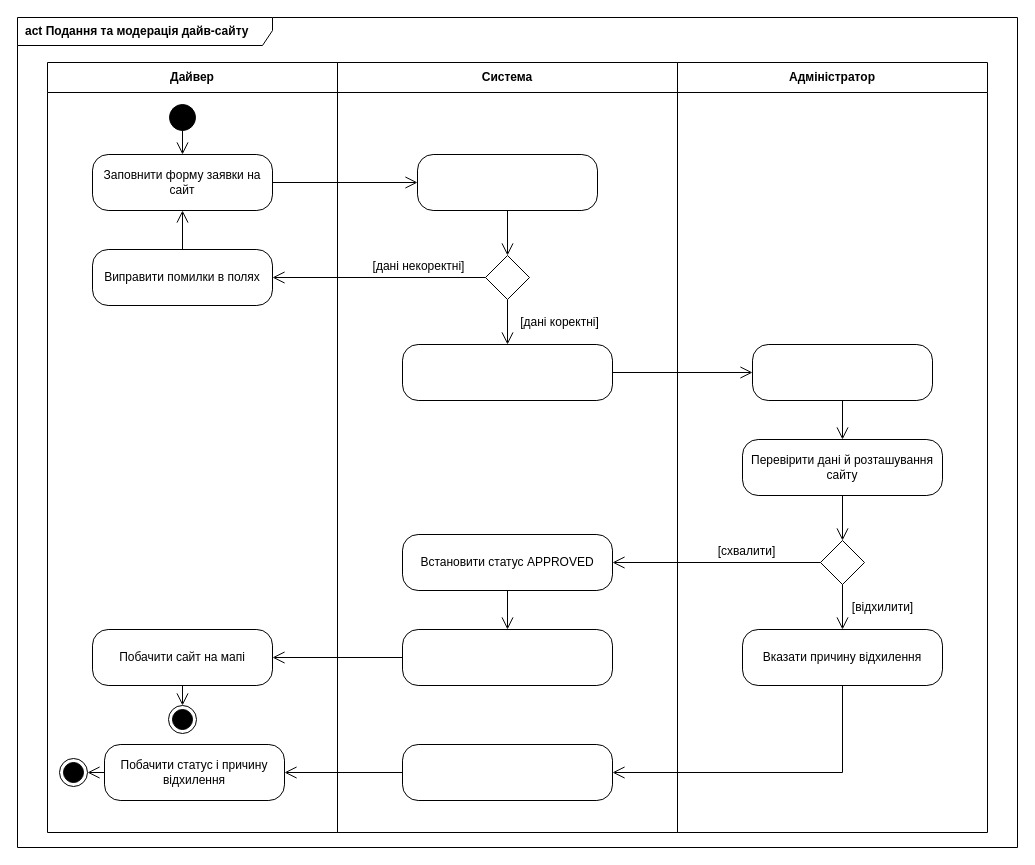
This 1035x865 diagram has some shape labels left out. The centre of each missing label's shape, as x and y in pixels:
"Встановити статус REJECTED з причиною" belongs at (x=507, y=772).
"Відкрити чергу модерації" belongs at (x=842, y=372).
"Зберегти сайт зі статусом PENDING" belongs at (x=507, y=372).
"Оцінити досягнення автора" belongs at (x=507, y=657).
"Перевірити дані заявки" belongs at (x=507, y=182).
